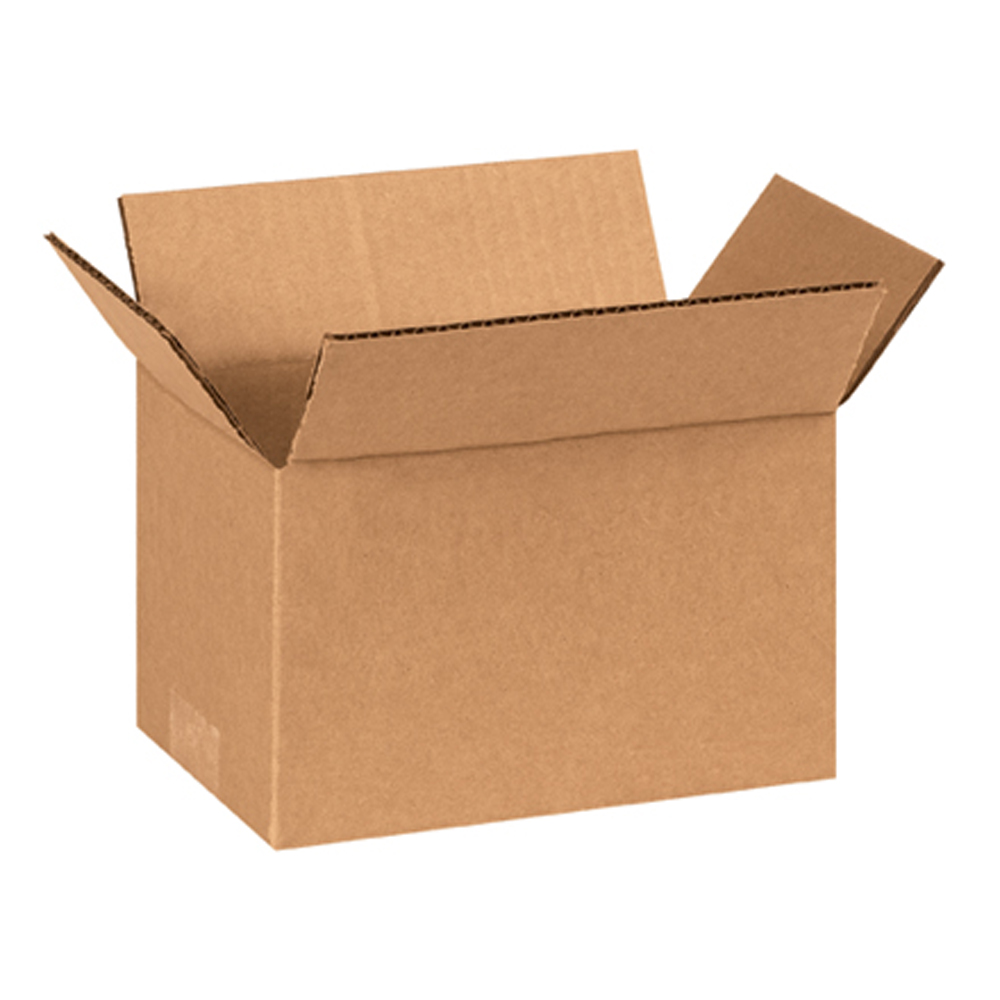box: (42, 146, 945, 852)
